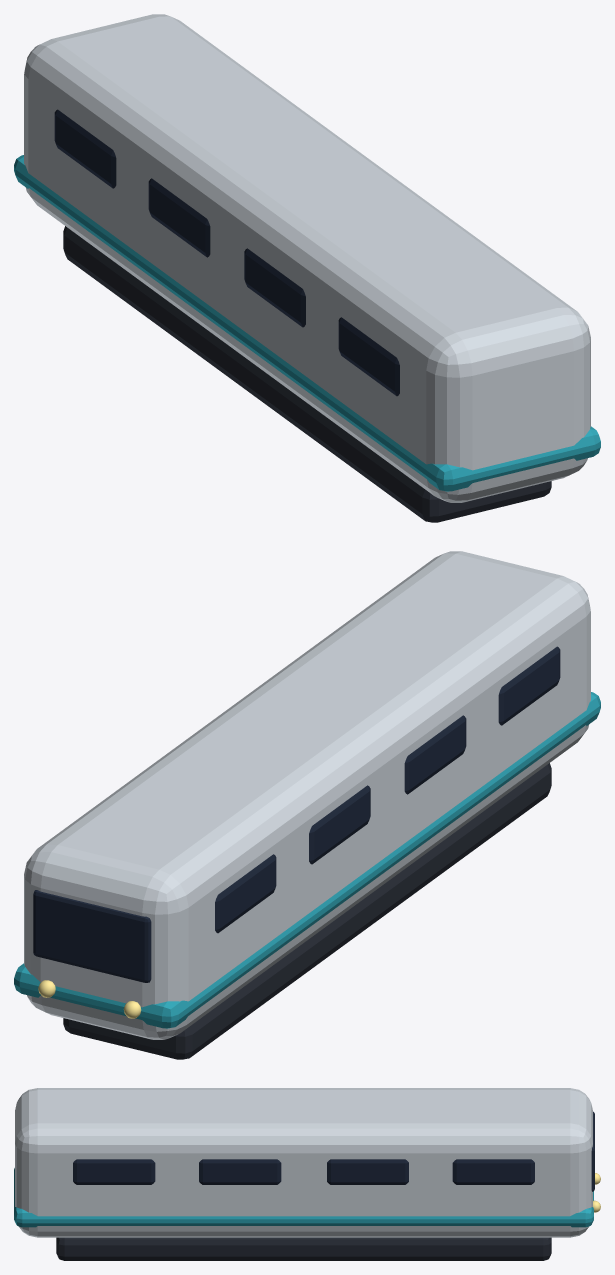
File: train_car.glb
The picture shows the model from 3 angles, top to bottom: view 1: azimuth 30°, elevation 25°; view 2: azimuth 150°, elevation 25°; view 3: azimuth 270°, elevation 25°; orthographic projection. The views are drawn at different scales.
Parts seen in each view (by area): view 1: train_car; view 2: train_car; view 3: train_car.
Part boxes in pixels (<box>): train_car: <box>14,14,600,522</box>; train_car: <box>14,551,600,1059</box>; train_car: <box>14,1088,600,1260</box>.
Size of the model in its own units: 3.08 by 3.65 by 14.22.
